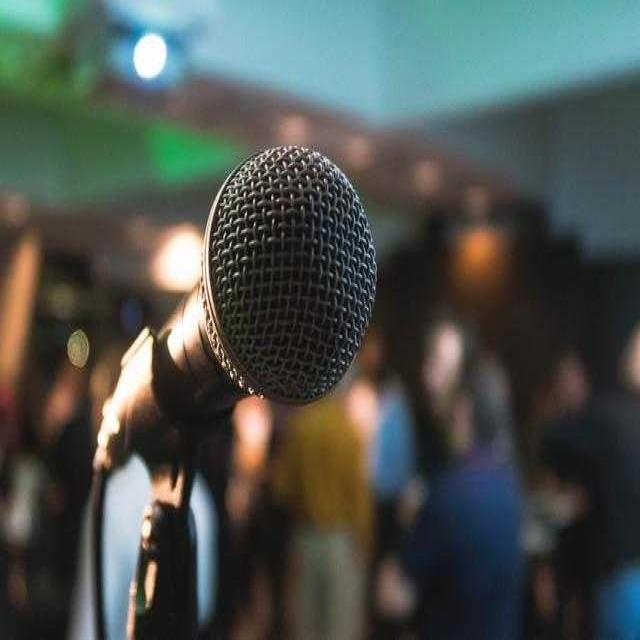microphone: (105, 138, 381, 465)
